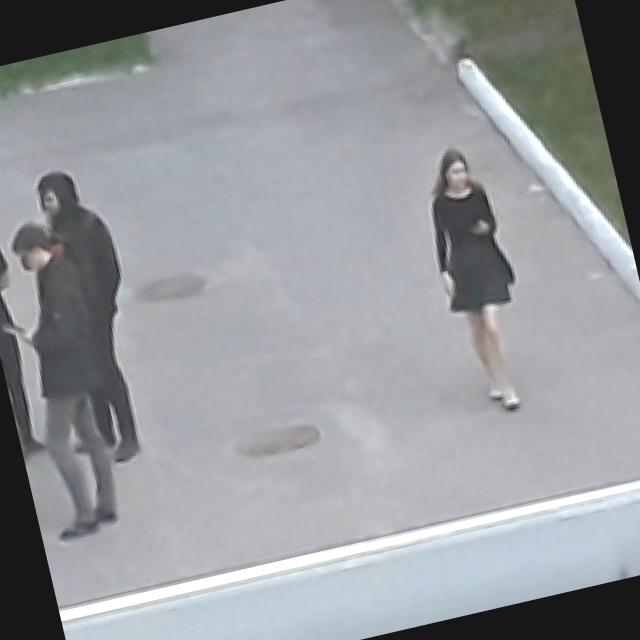person: (0, 214, 141, 543), (25, 161, 163, 470), (411, 140, 544, 418), (0, 200, 52, 455)
